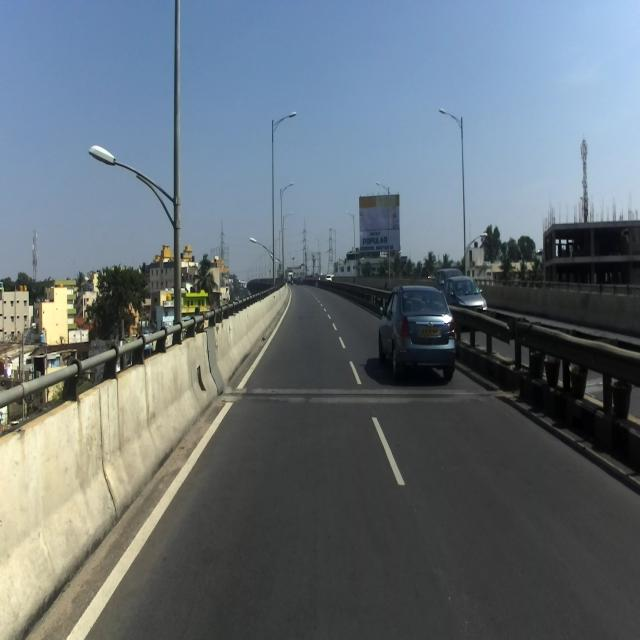car ahead at: (379, 274, 454, 392)
